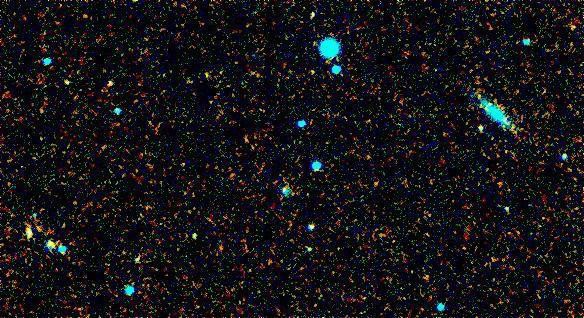star: (58, 67, 88, 97)
